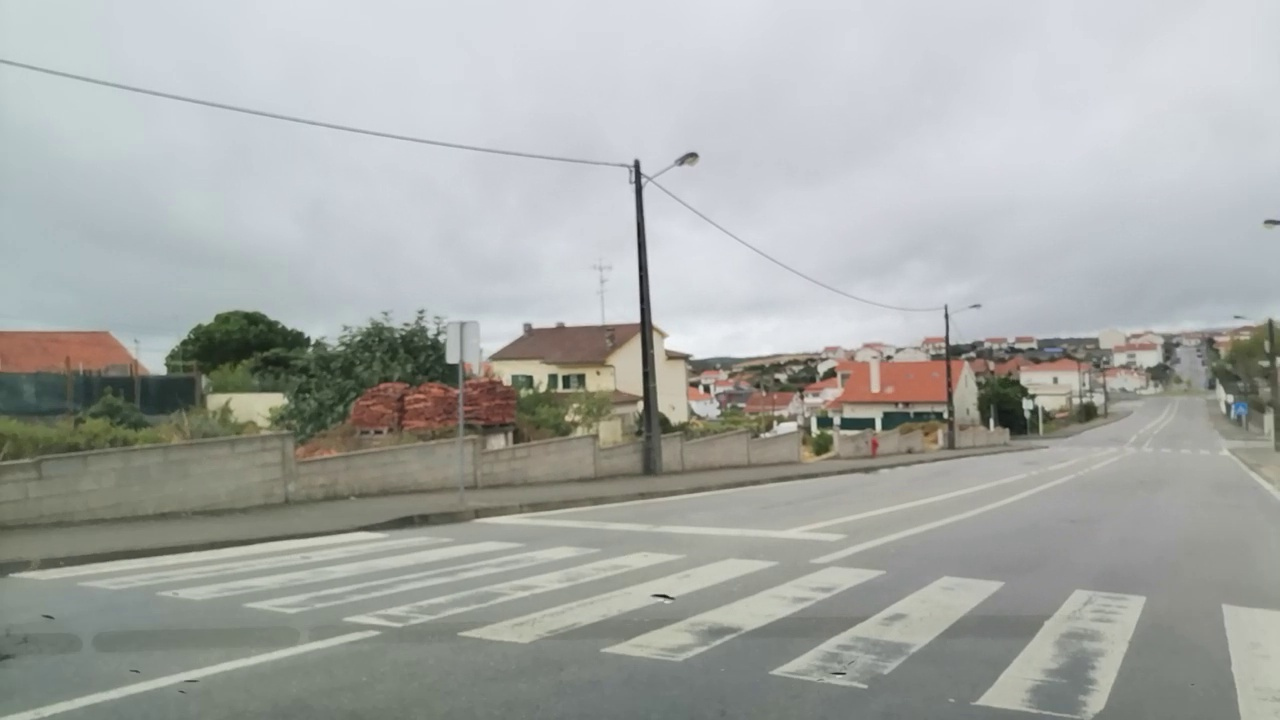Stairs: (26, 528, 1277, 720)
